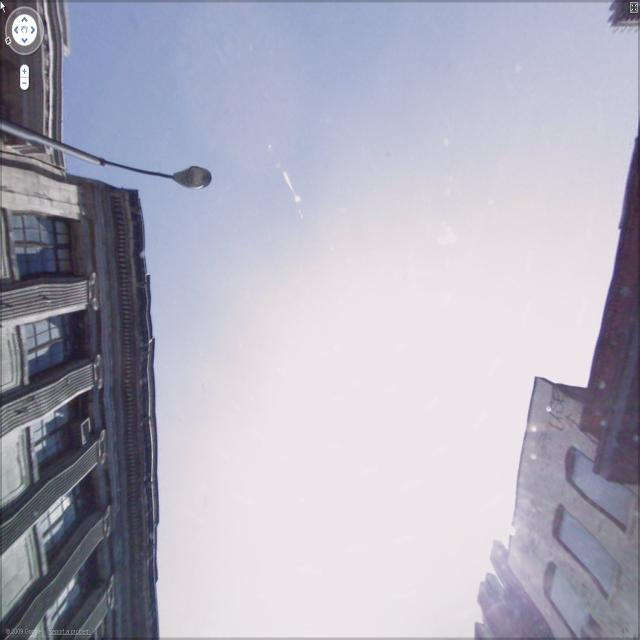b_1: (1, 178, 187, 620), (510, 377, 631, 640), (598, 140, 640, 504), (0, 10, 81, 146)
